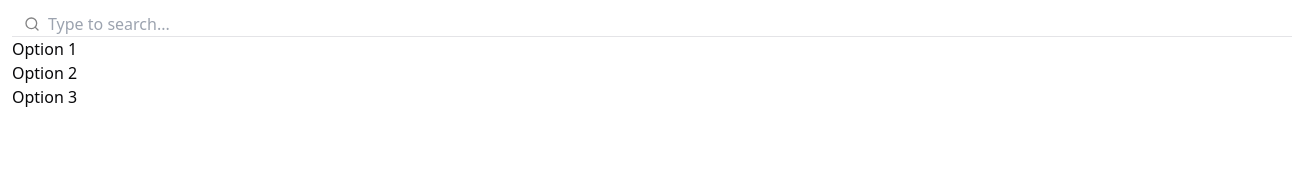
Test: Autocomplete Component › filters options based on search input
In the dropdown: [164, 24] box [48,12,279,36], type "Option 1"
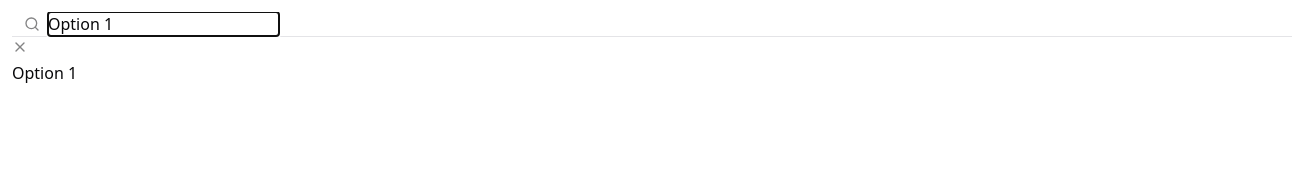
Check: the text "Option 1" is shown, box [12,62,77,84]
Check: the option "Option 2" is gone
